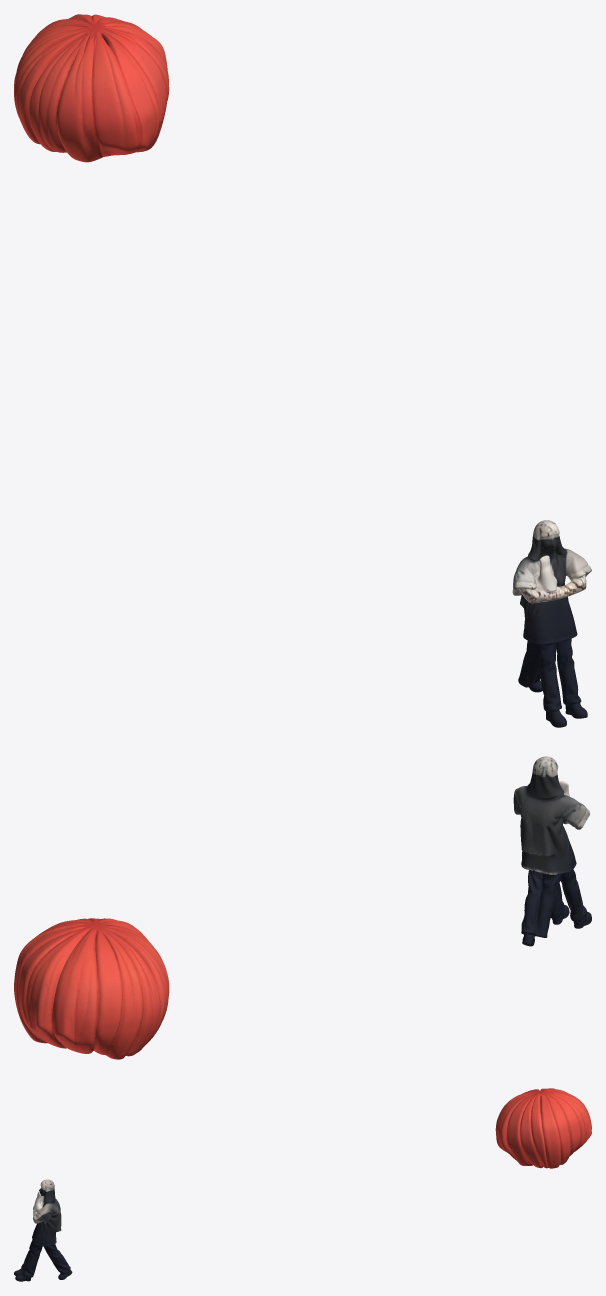
Rendered from street-rejected-v1.glb.
3 views of the same model, one above another, from view 1: azimuth 30°, elevation 25°; view 2: azimuth 150°, elevation 25°; view 3: azimuth 270°, elevation 25° (orthographic). The views are drawn at different scales.
Visible parts, largest first — view 1: model; view 2: model; view 3: model.
Part boxes in pixels (x1,y1,x2,y2): model: (14, 14, 591, 727); model: (14, 756, 591, 1059); model: (14, 1088, 591, 1281).
Size of the model in its own units: 0.2884 by 0.681 by 1.9.
Materials: 1 (1 with a texture image).
